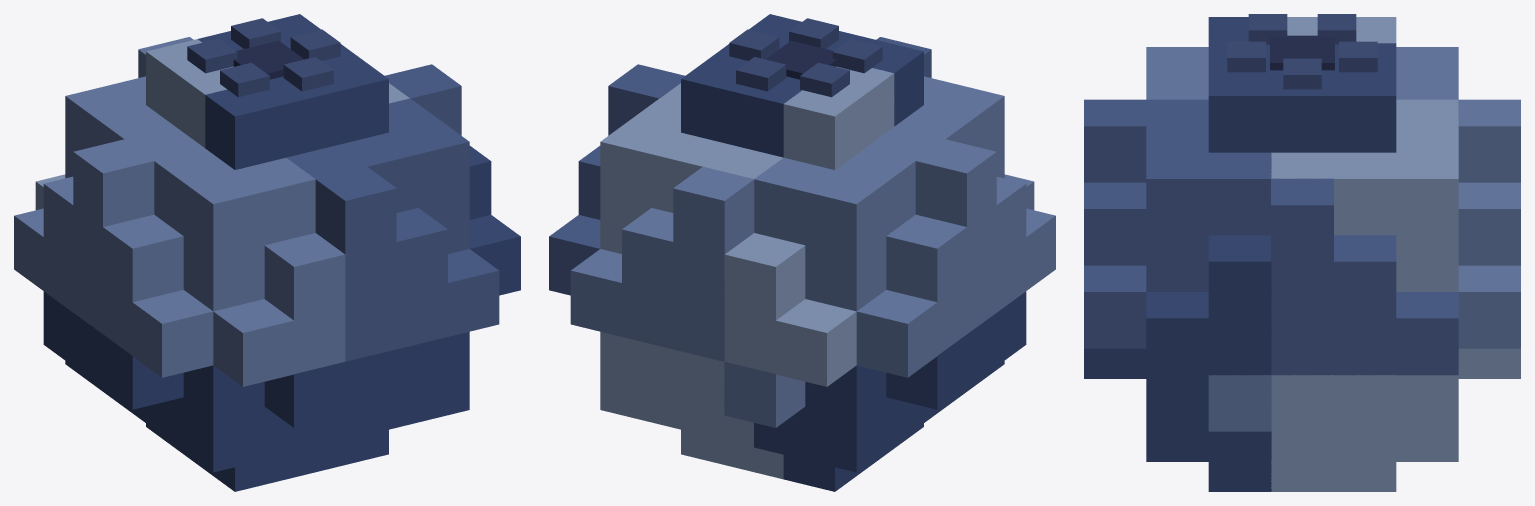
The model's file is BB-03_chandler.glb.
3 views of the same model, side by side, from view 1: azimuth 30°, elevation 25°; view 2: azimuth 150°, elevation 25°; view 3: azimuth 270°, elevation 25° (orthographic). The views are drawn at different scales.
Visible parts, largest first — view 1: Chandler · original workbench cubes; view 2: Chandler · original workbench cubes; view 3: Chandler · original workbench cubes.
Boxes of the visible parts, left/top/right/bottom form: Chandler · original workbench cubes: left=14, top=14, right=520, bottom=491; Chandler · original workbench cubes: left=549, top=14, right=1055, bottom=491; Chandler · original workbench cubes: left=1084, top=14, right=1520, bottom=491.
Bounding box in the file's own units: 0.1667 × 0.1728 × 0.1667.
